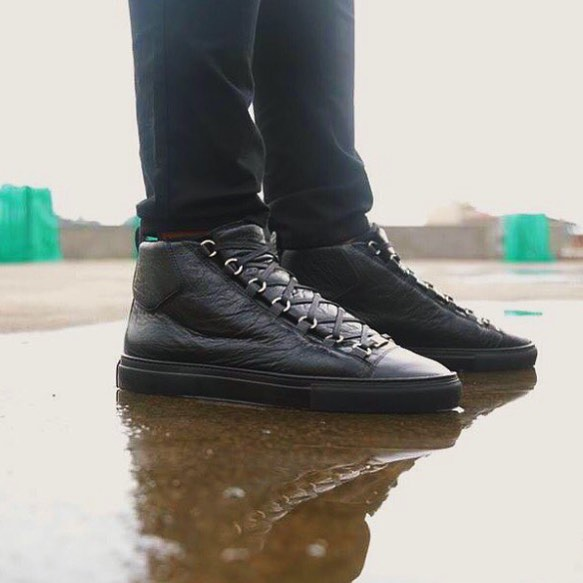sneaker: (91, 197, 490, 437), (235, 199, 549, 381)
